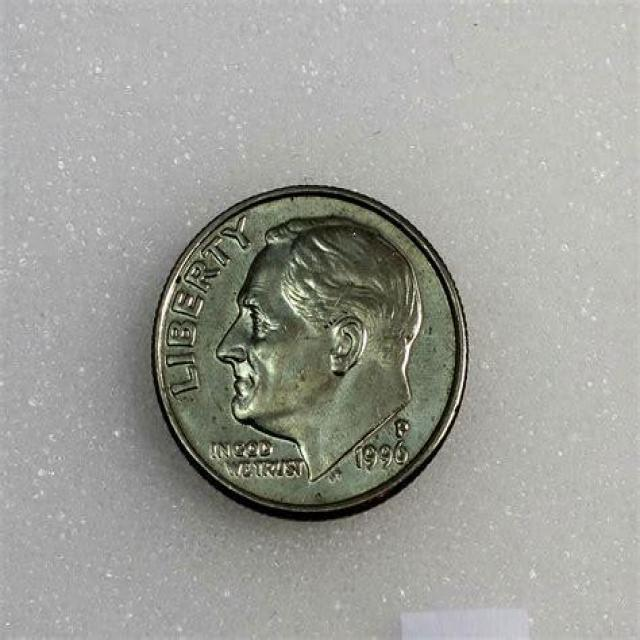Dime: (146, 188, 482, 533)
